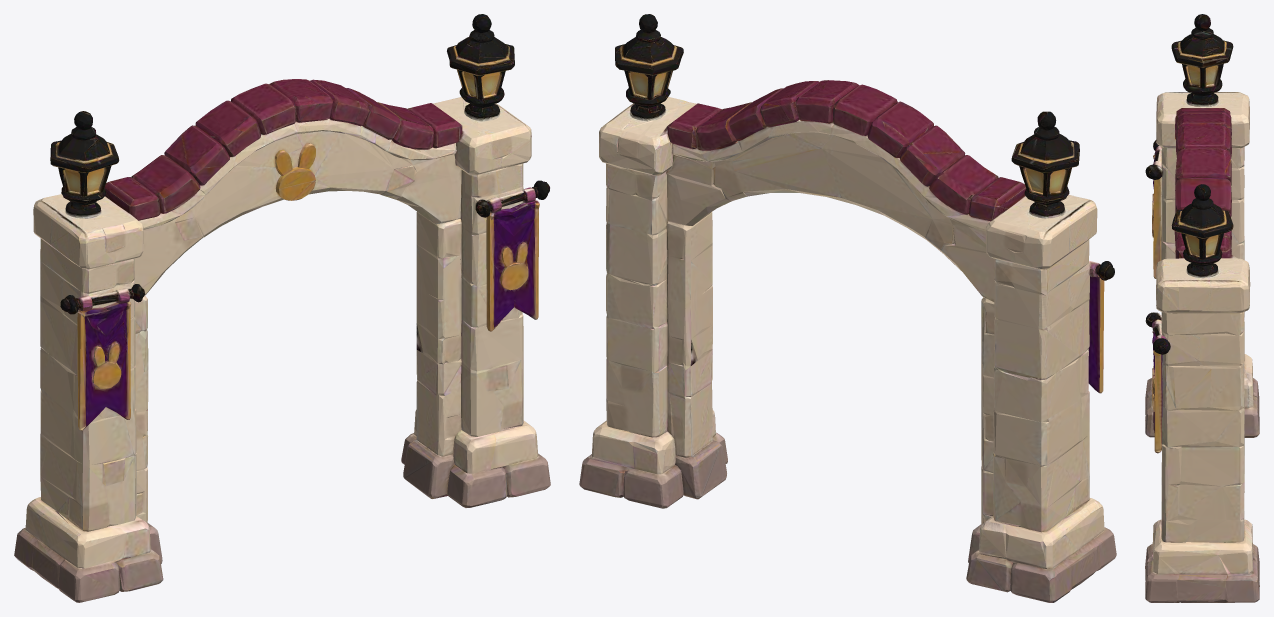
Rendered from gate.glb.
3 views of the same model, side by side, from view 1: azimuth 30°, elevation 25°; view 2: azimuth 150°, elevation 25°; view 3: azimuth 270°, elevation 25° (orthographic). The views are drawn at different scales.
Bounding box in the file's own units: 5.43 × 4.9 × 1.27.
1 material, 1 textured.
